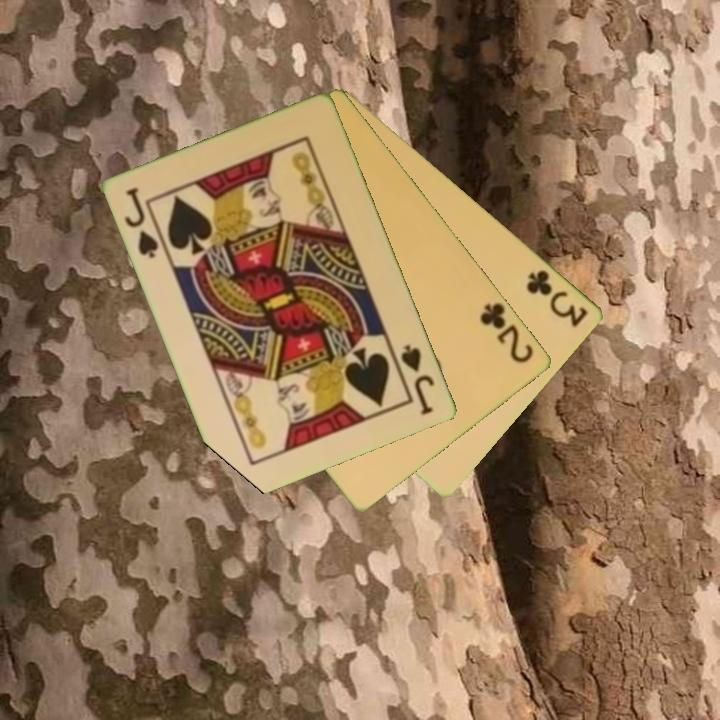2c: (476, 299, 537, 367)
3c: (523, 266, 592, 331)
Js: (121, 184, 169, 262), (398, 341, 438, 418)
